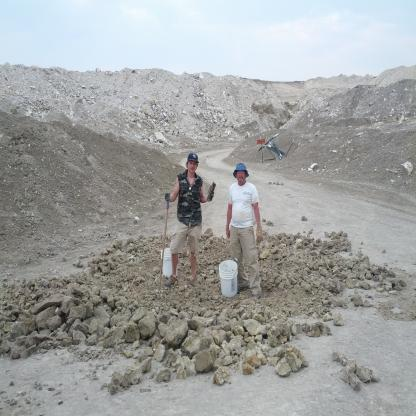person: (219, 149, 268, 301), (168, 146, 211, 292)
